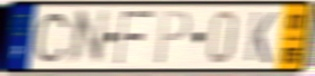0: (205, 8, 238, 67)
C: (33, 11, 71, 65)
F: (113, 9, 155, 66)
K: (244, 10, 279, 66)
N: (65, 7, 111, 69)
P: (154, 9, 192, 67)
